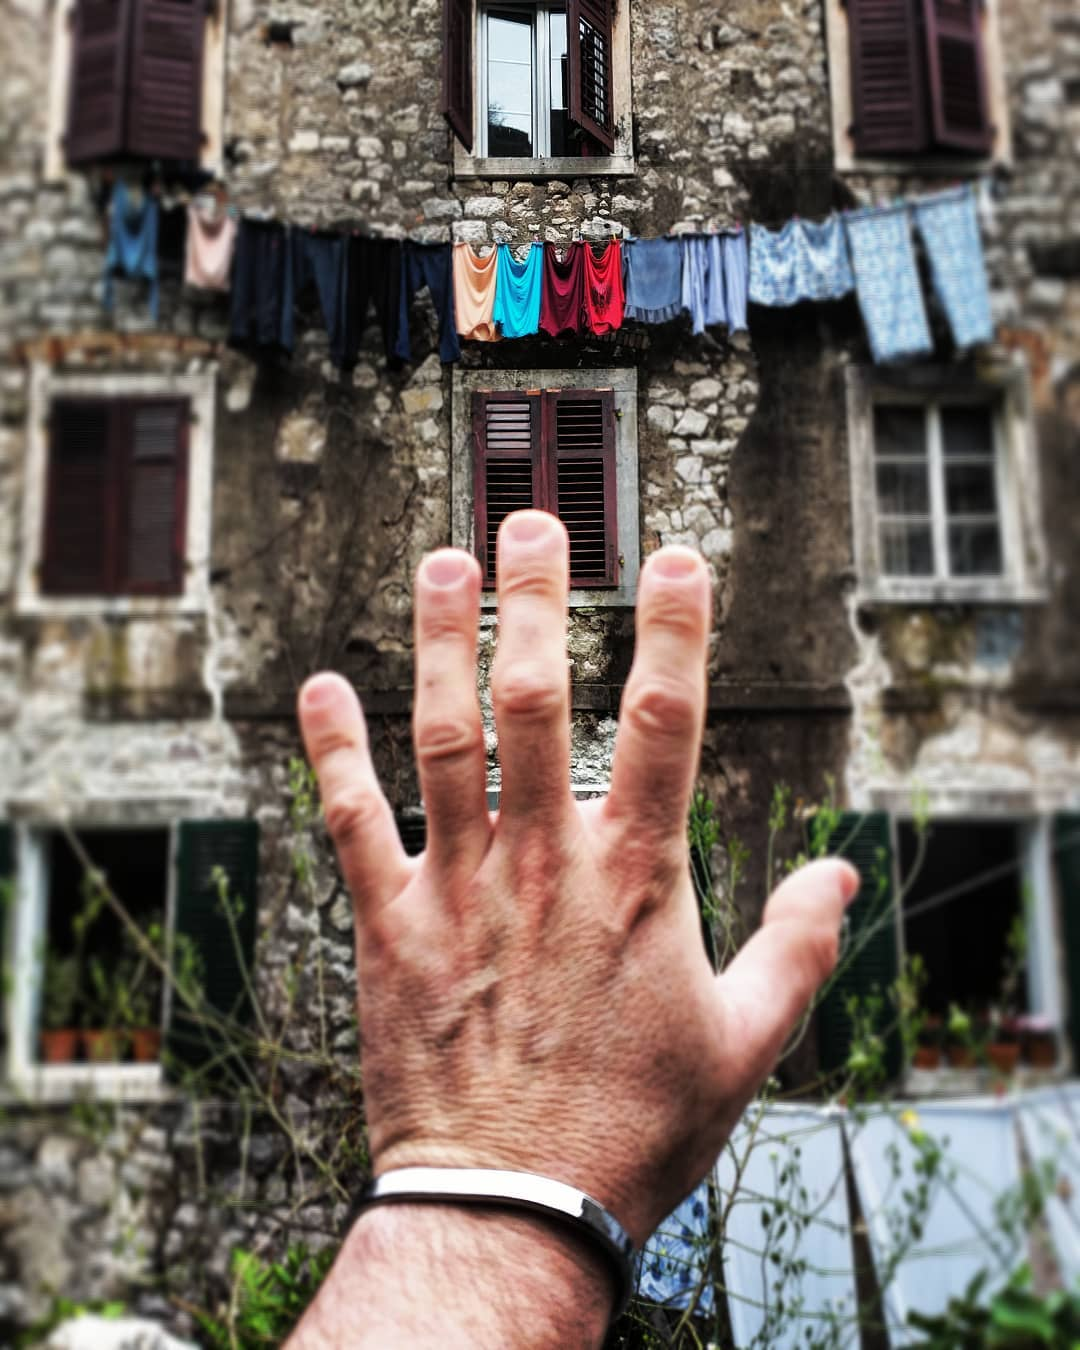hand: (330, 529, 822, 1236)
